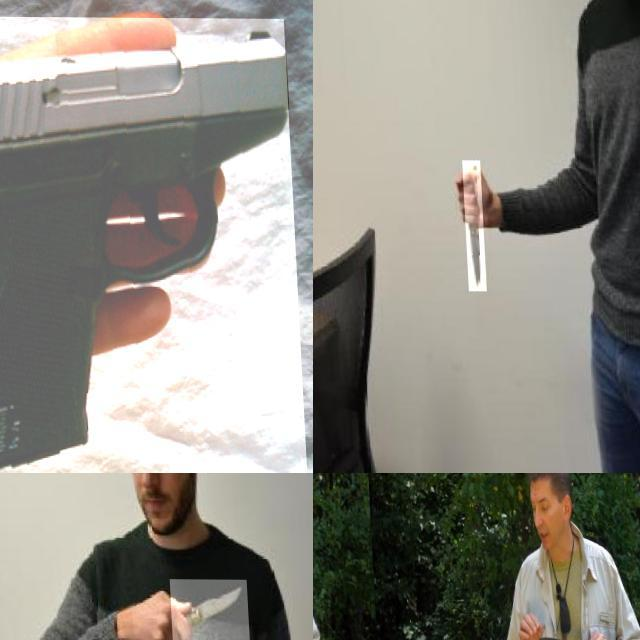-: (166, 578, 246, 640), (459, 160, 483, 291), (534, 633, 607, 640)
gun-knife-thesis - v11 Yolov5 augmented: (0, 15, 301, 473)
